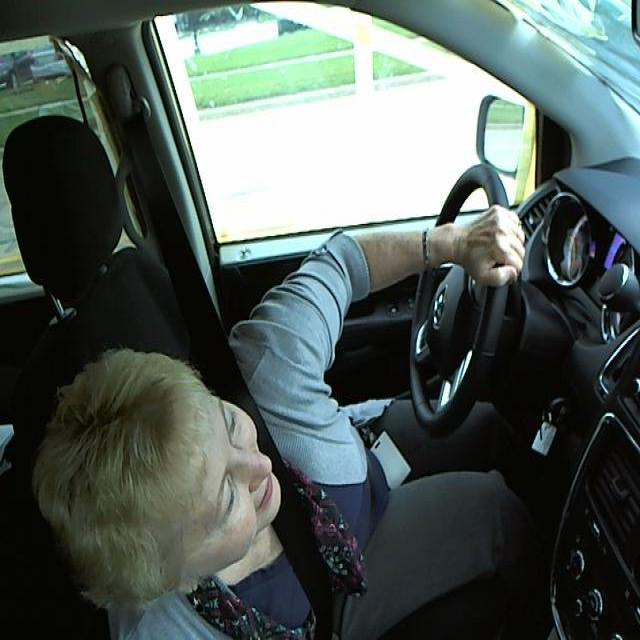seatbelt: (134, 168, 264, 424)
